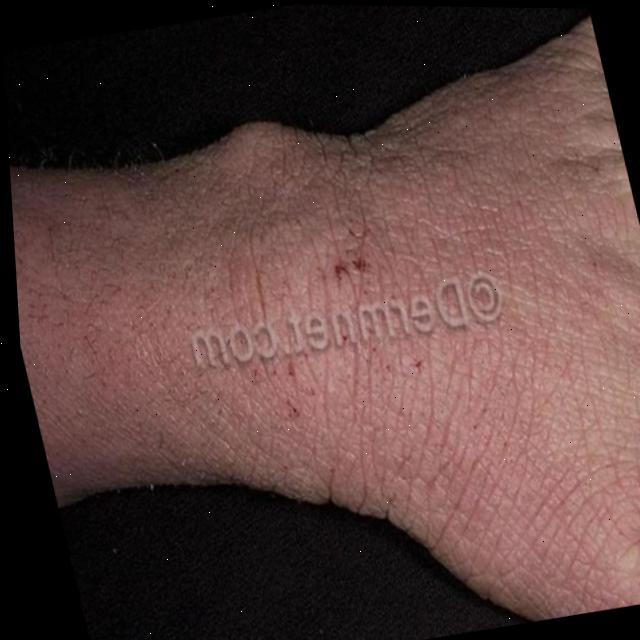Eczema: (6, 100, 620, 574)
